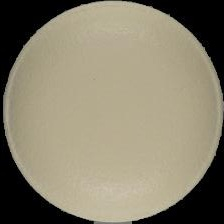69189-0805: (0, 0, 224, 224)
